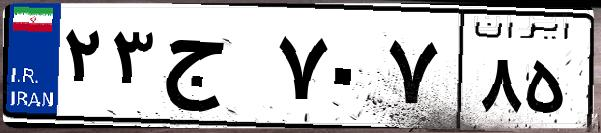0: (330, 28, 385, 110)
2: (57, 26, 110, 100)
3: (110, 28, 158, 98)
5: (525, 38, 570, 115)
7: (270, 28, 330, 110), (385, 28, 445, 110)
8: (475, 38, 525, 113)
ج: (158, 20, 270, 120)
